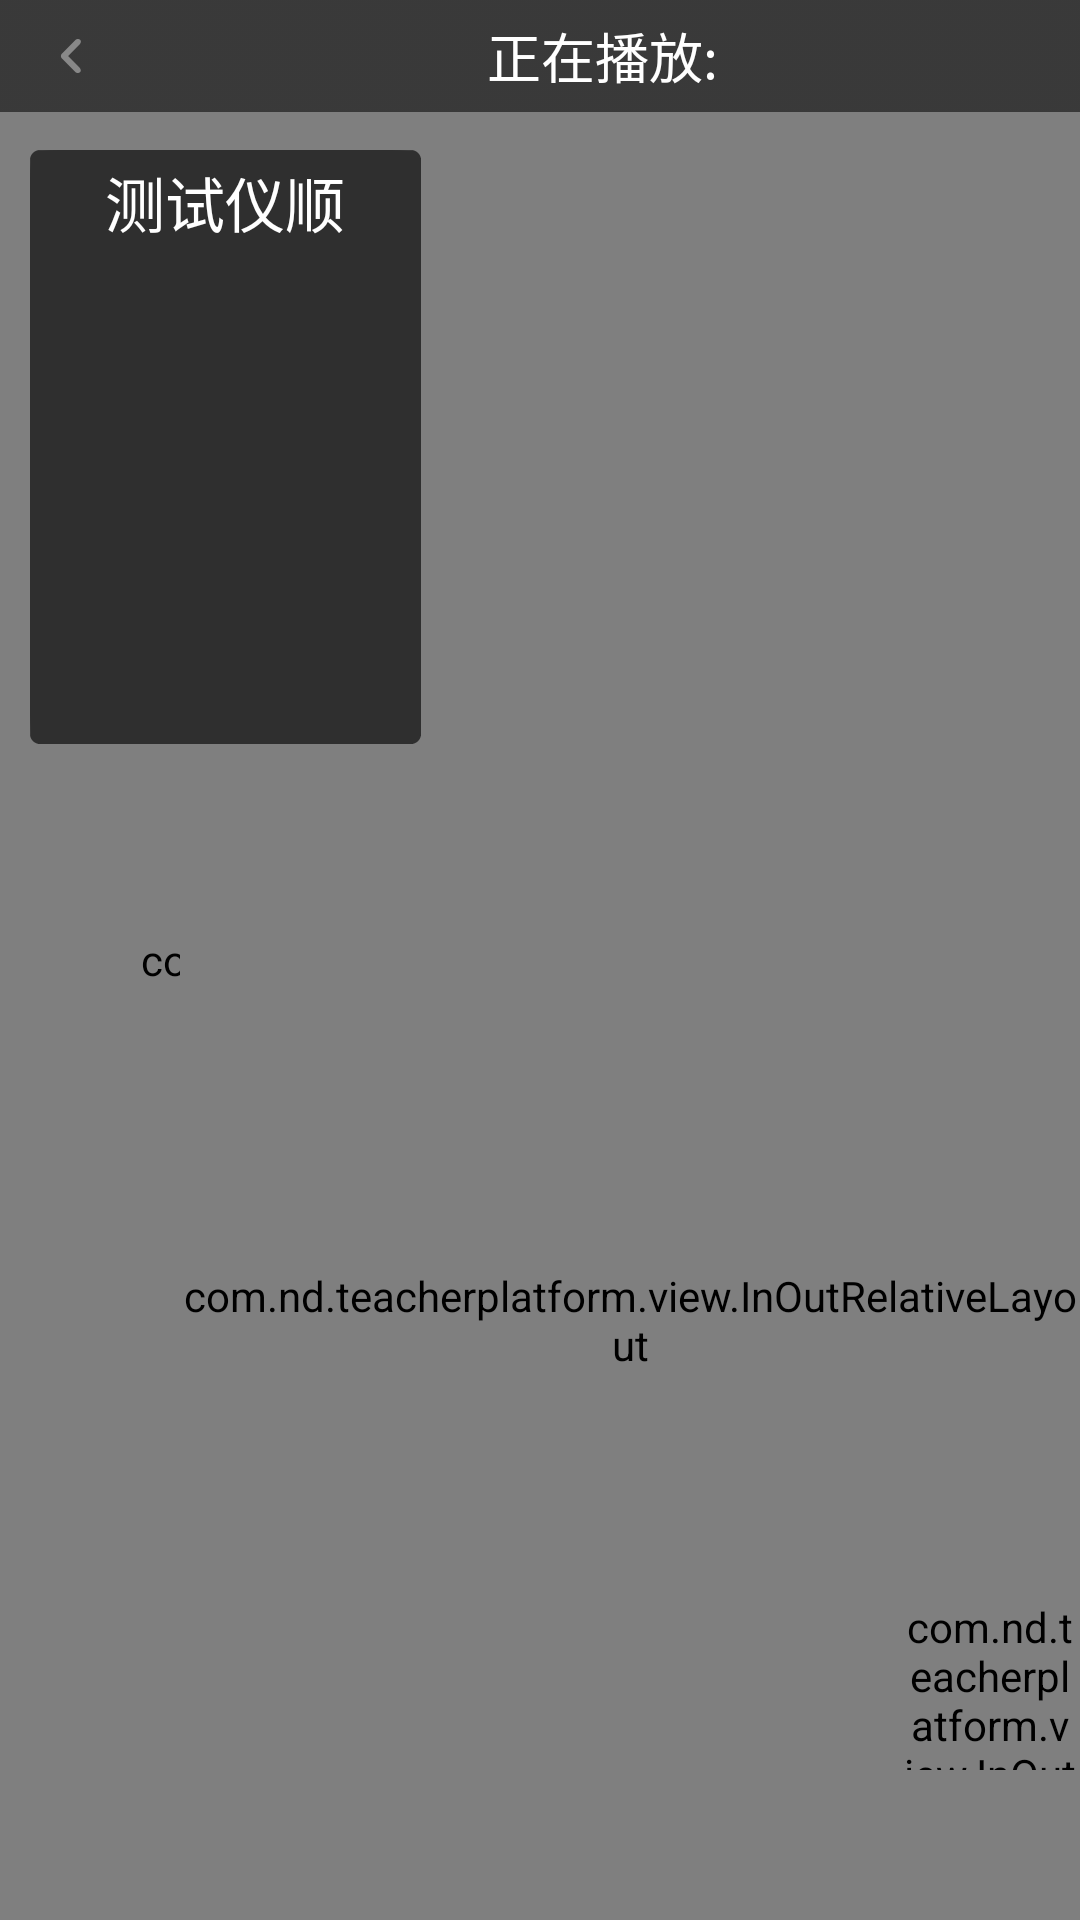

Icon click points for this 1080x1920 phone screenshot, format (x,y):
back: (71,56)
